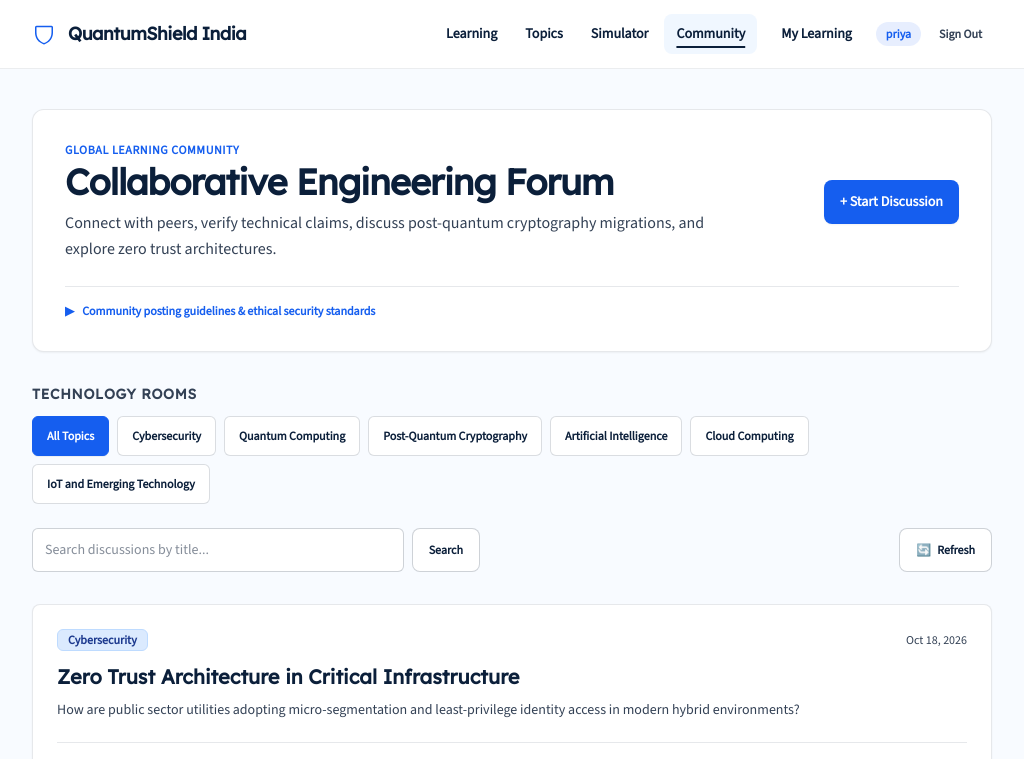
it: Global Learning Community Integration Flow › enforces validation limits in discussion composer
This screenshot has width=1024, height=759.
Click the button "+ Start Discussion": (891, 202) [824,180,959,224]
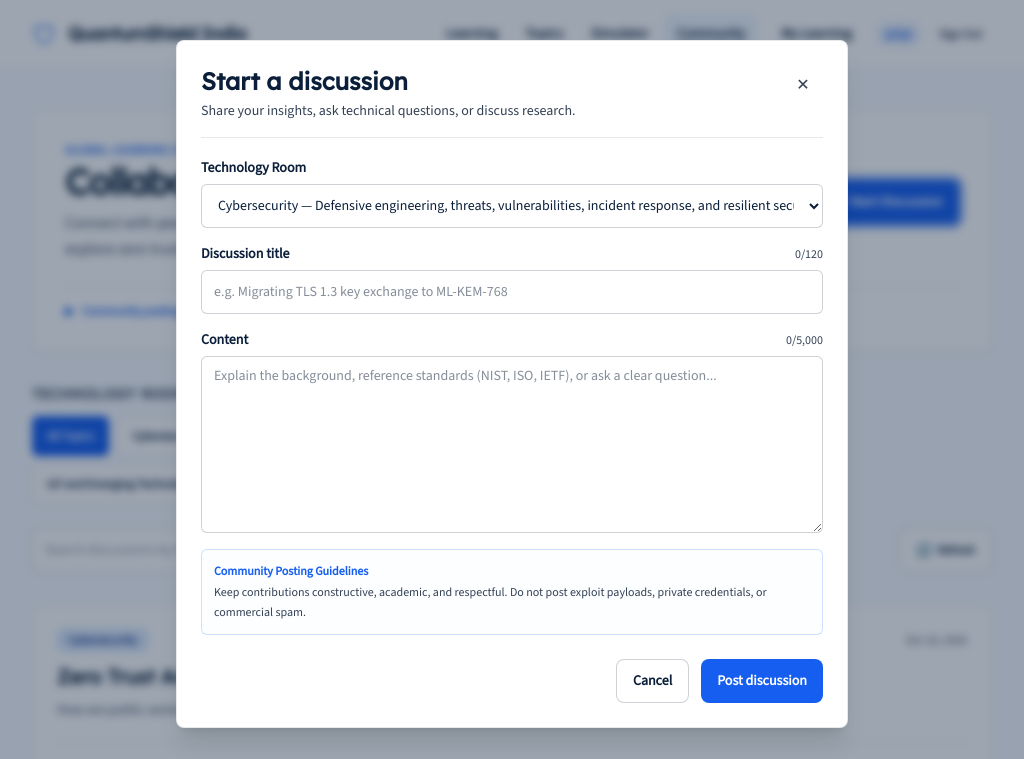
In the field labelled "Discussion title": (512, 292) [201,270,823,314], type "ab"
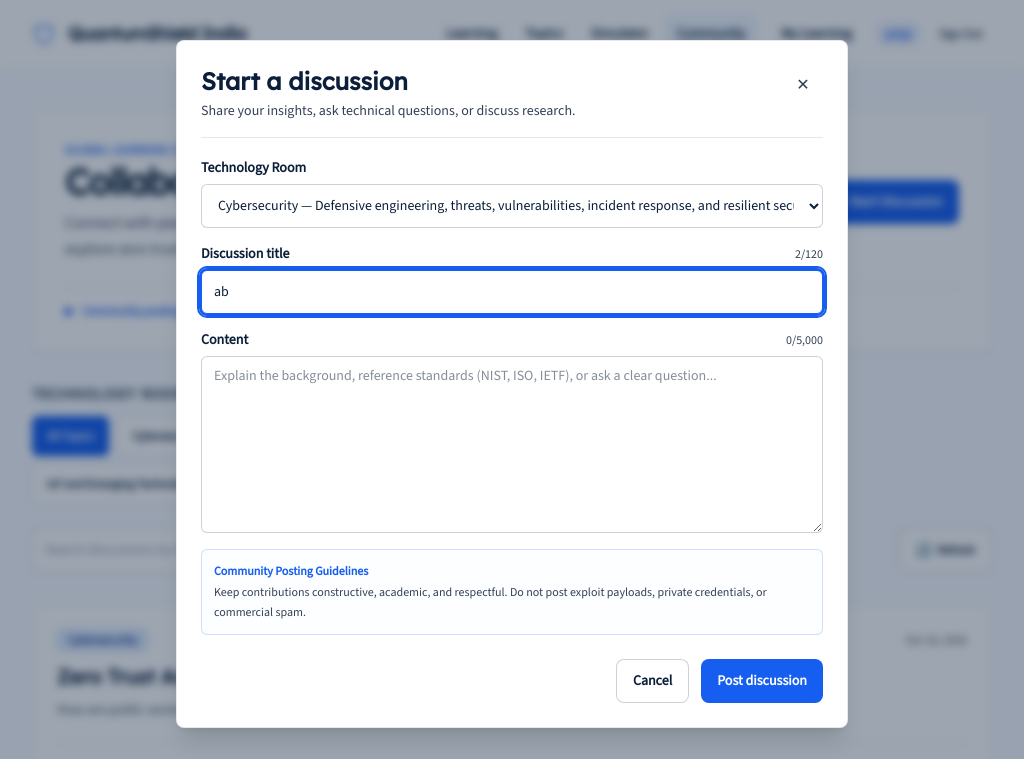
In the text box labelled "Content": (512, 444) [201,356,823,533], type "Sufficiently long description over 10 chars"
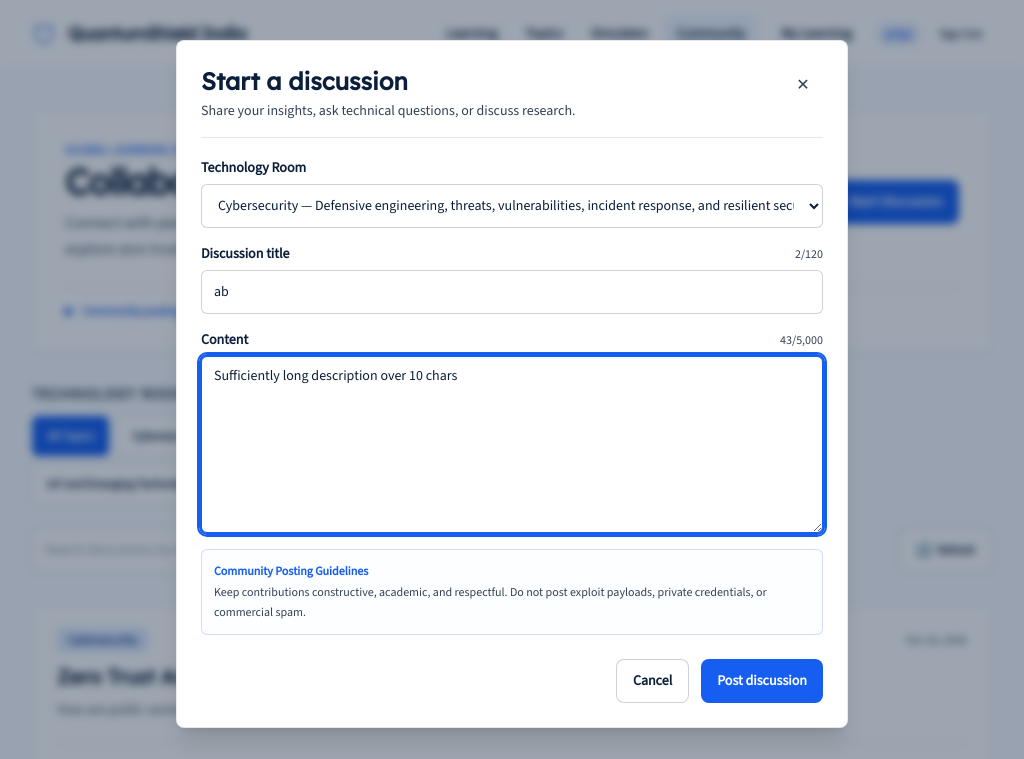
Click the button "Post discussion": (762, 681) [701,659,823,703]
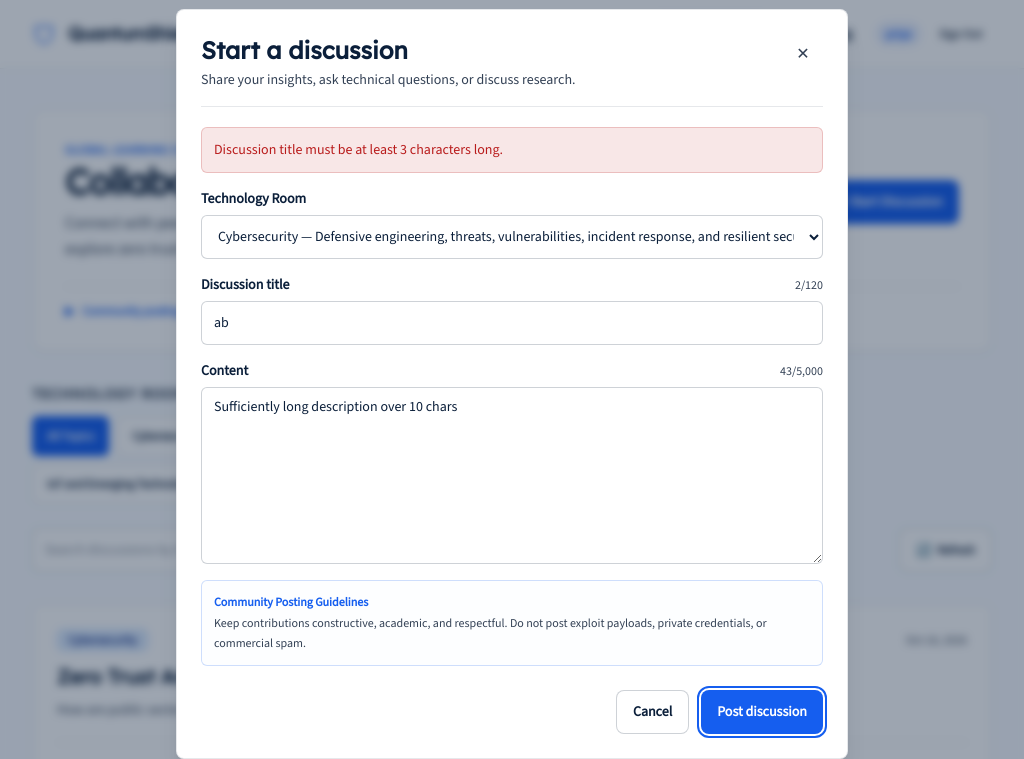
expect the text "Discussion title must be at least 3 characters long." is shown: met, box [201,127,823,173]
